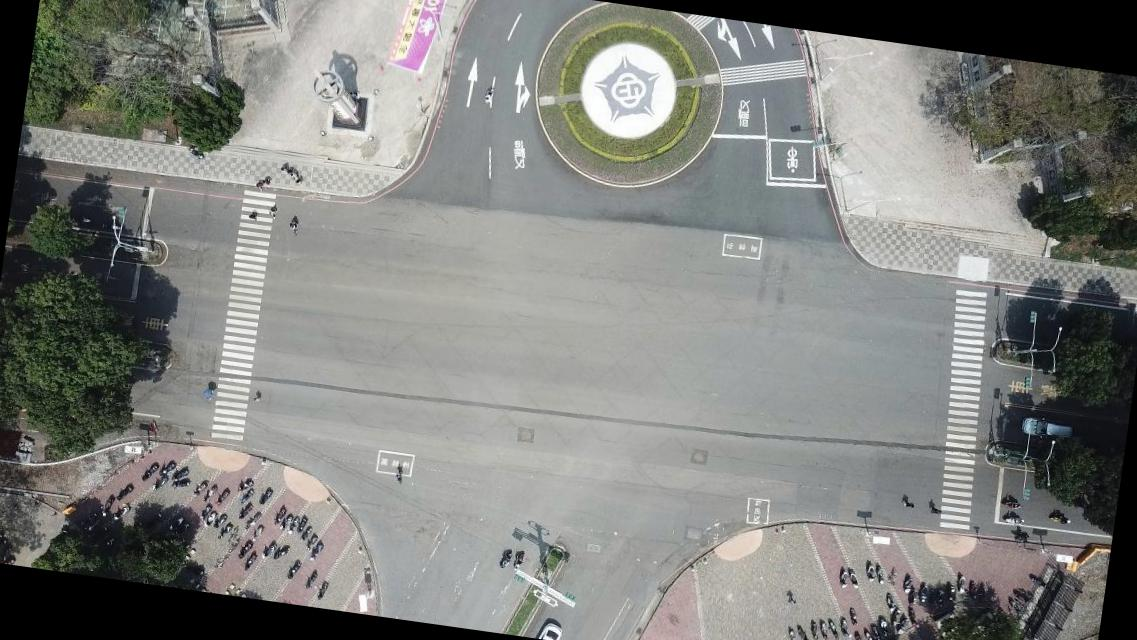vehicle: (1019, 416, 1076, 445), (536, 620, 565, 639)
